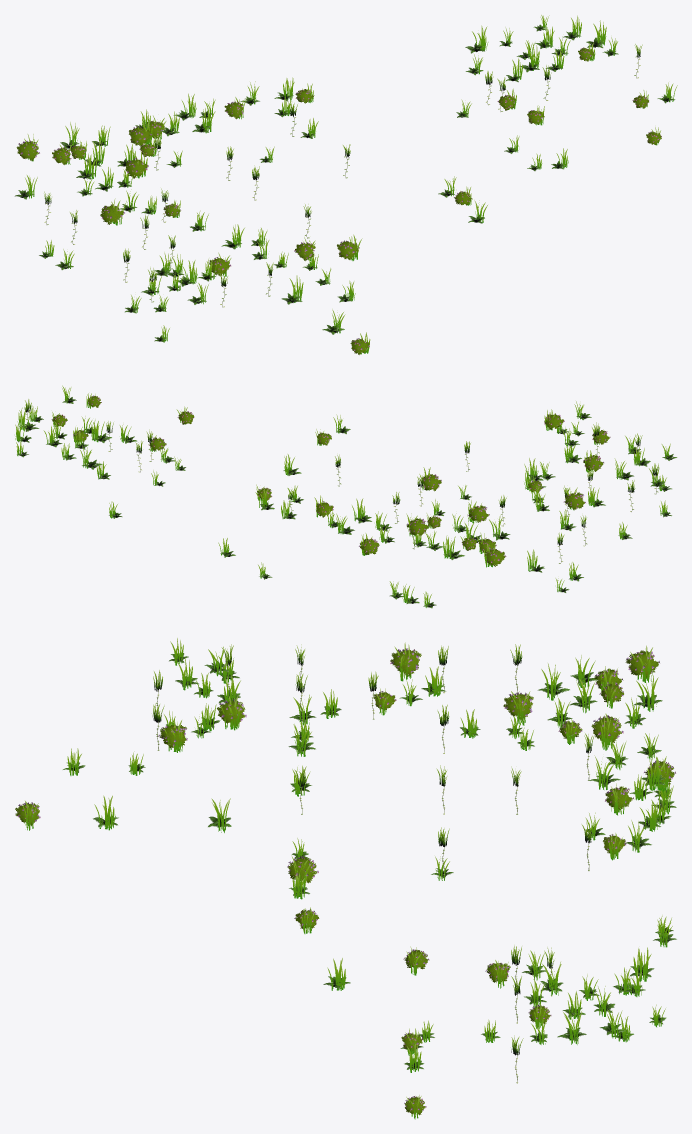
File: Factory_Greenery.glb
The picture shows the model from 3 angles, top to bottom: view 1: azimuth 30°, elevation 25°; view 2: azimuth 150°, elevation 25°; view 3: azimuth 270°, elevation 25°; orthographic projection. The views are drawn at different scales.
Visible parts, largest first — view 1: no part large enough to name; view 2: no part large enough to name; view 3: Patch_063.
Boxes of the visible parts, <box> form: Patch_063: <box>625,645,659,682</box>.
Bounding box in the file's own units: 53.28 × 7.97 × 37.03.
Materials: 7 (4 with a texture image).
